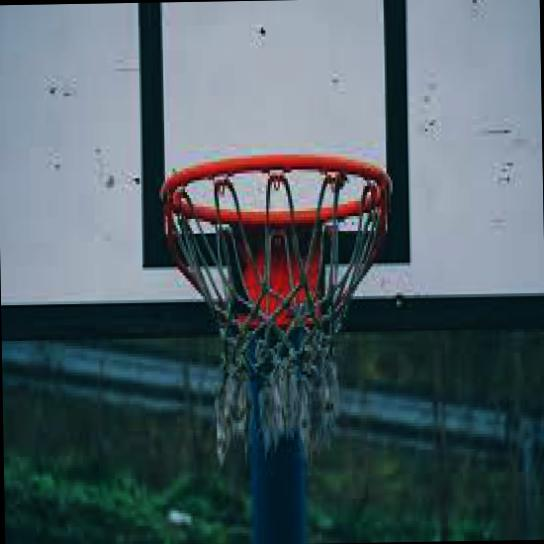basketball-hoop: (158, 150, 399, 448)
